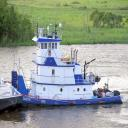tugboat: (11, 23, 125, 112)
